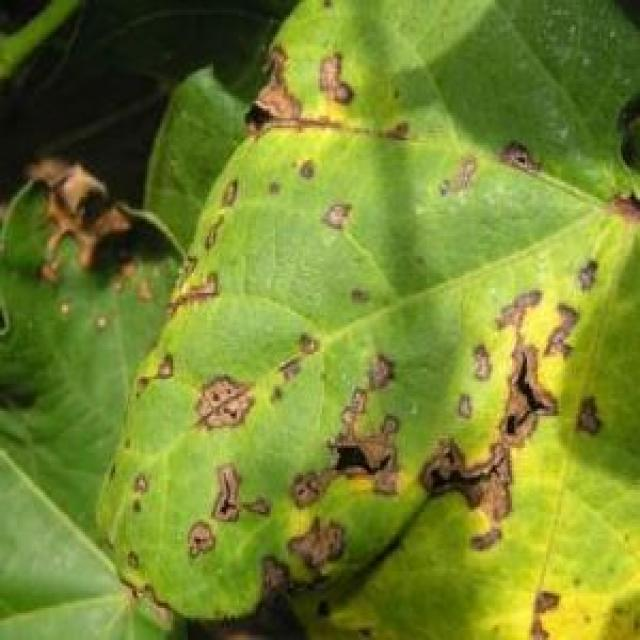Bacterial Blight: (153, 154, 567, 584)
